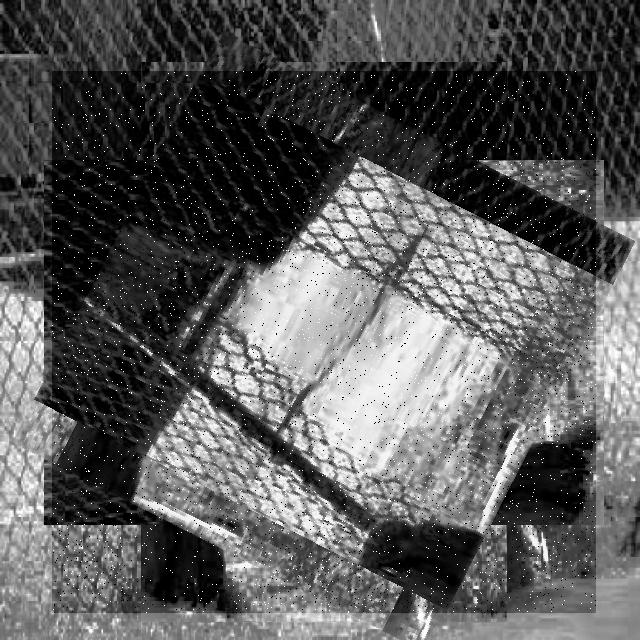anomaly-fence: (52, 71, 596, 613)
